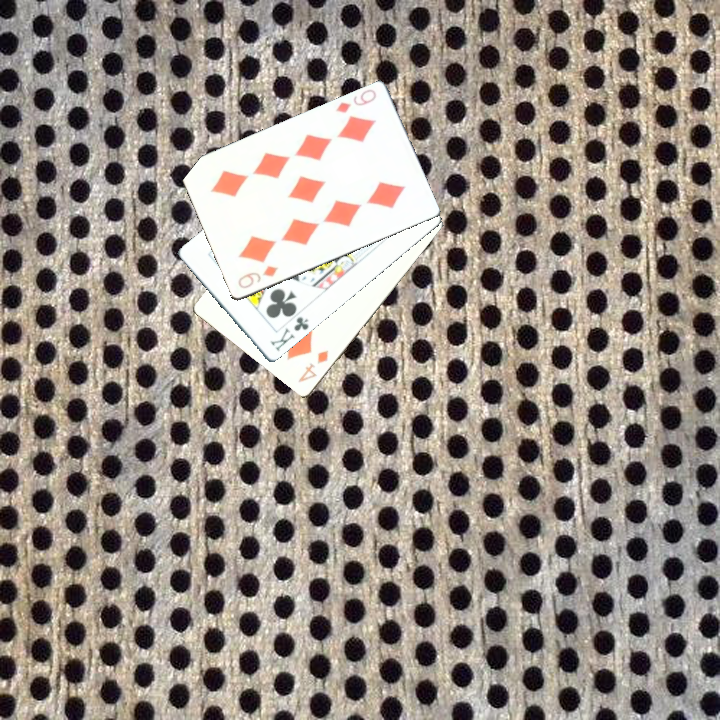4d: (294, 346, 331, 385)
9d: (331, 85, 379, 115), (234, 261, 281, 291)
Kc: (267, 305, 311, 354)
